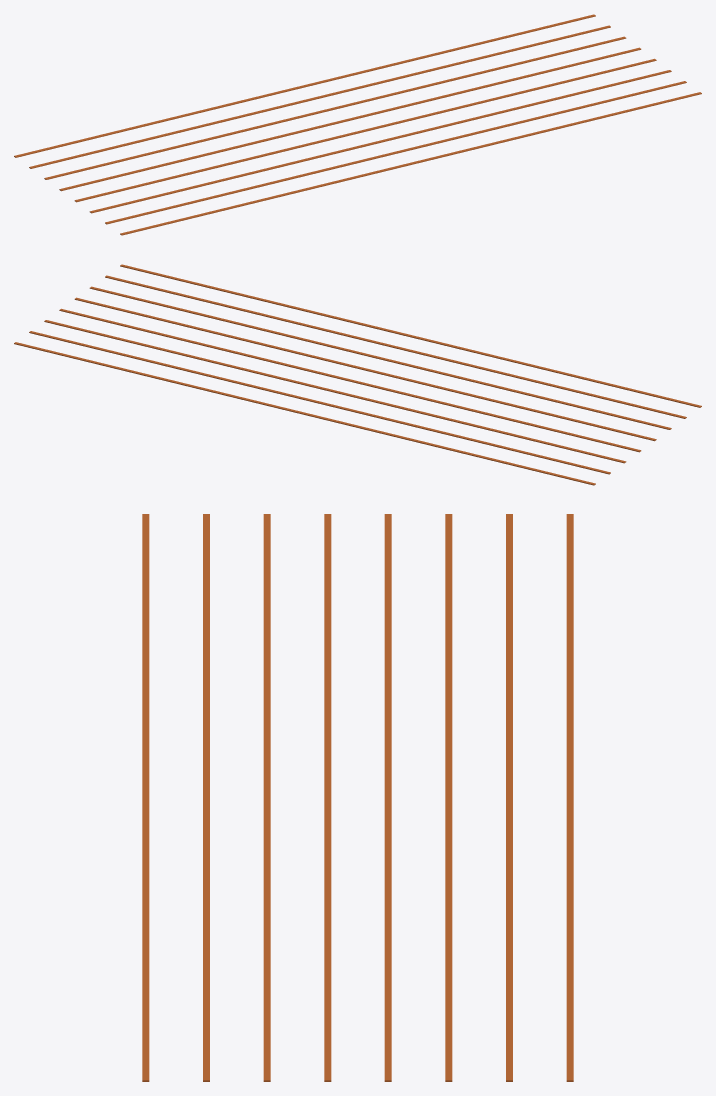
Rendered from 168_L110_PowerPlaneTraceArt.fbx.
3 renders of one model, top to bottom at view 1: azimuth 30°, elevation 25°; view 2: azimuth 150°, elevation 25°; view 3: azimuth 270°, elevation 25°, orthographic. The views are drawn at different scales.
Visible parts, largest first — view 1: L110_PowerPlaneTraceArt_COPPER; view 2: L110_PowerPlaneTraceArt_COPPER; view 3: L110_PowerPlaneTraceArt_COPPER.
Boxes of the visible parts, x1,y1,x2,y2 form: L110_PowerPlaneTraceArt_COPPER: (14,14,701,235); L110_PowerPlaneTraceArt_COPPER: (14,264,701,485); L110_PowerPlaneTraceArt_COPPER: (142,514,573,1081).
Size of the model in its own units: 42 by 13.52 by 0.055.
